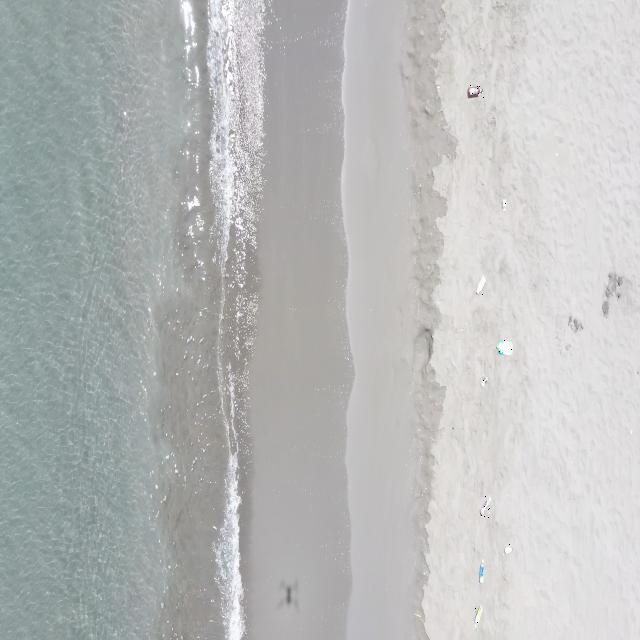Garbage: (496, 340, 512, 355), (480, 495, 491, 516), (475, 273, 486, 293), (467, 84, 482, 96), (475, 606, 482, 624), (479, 560, 484, 583), (480, 376, 487, 386), (504, 544, 510, 552), (503, 199, 506, 211)
